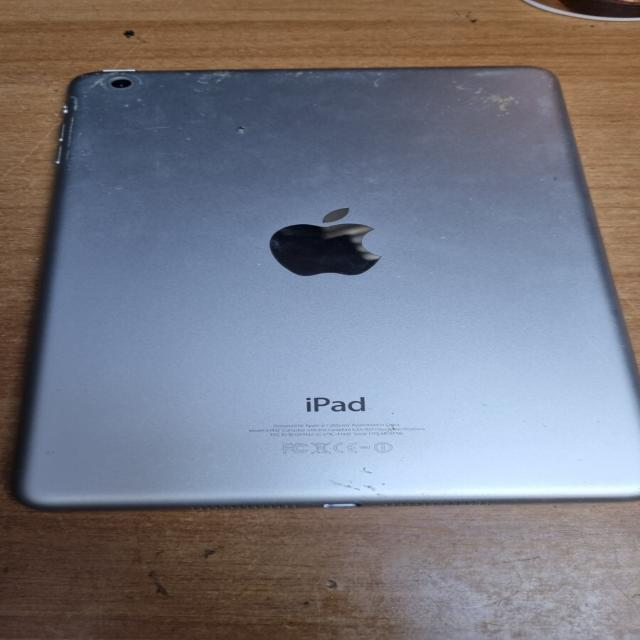Dislodged Screen: (222, 117, 260, 148)
